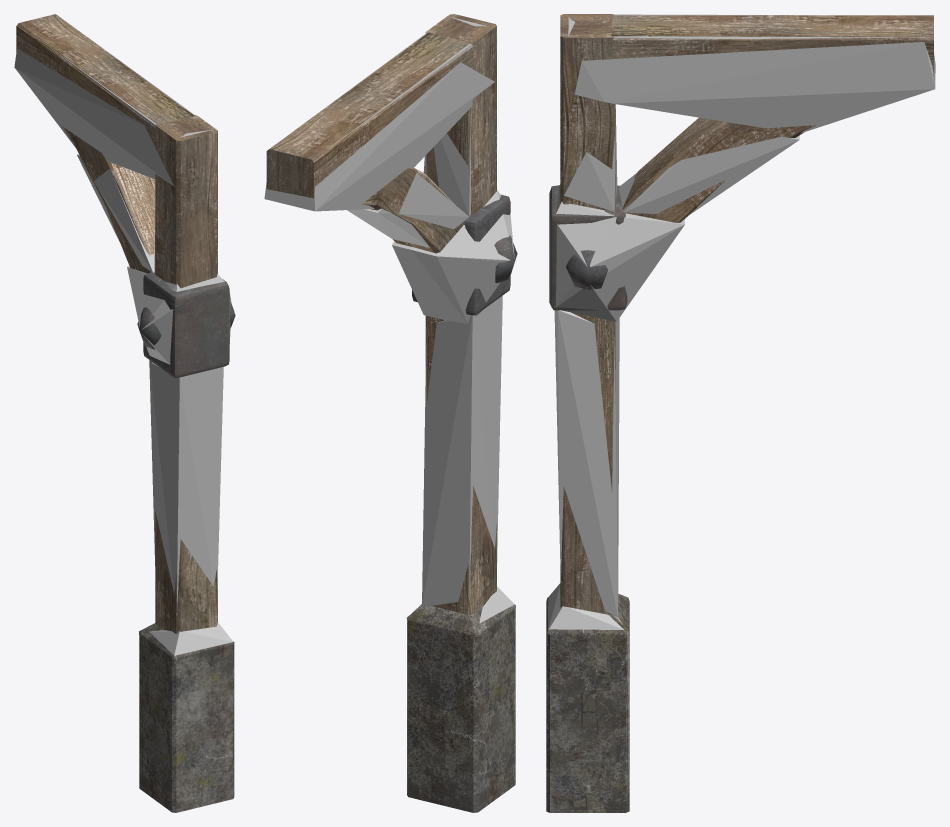
File: SM_Beam_B_02.fbx
3 renders of one model, left to right at view 1: azimuth 30°, elevation 25°; view 2: azimuth 150°, elevation 25°; view 3: azimuth 270°, elevation 25°, orthographic. The views are drawn at different scales.
Visible parts, largest first — view 1: SM_Beam_B_02, SM_Beam_B_02_ConvexHulls; view 2: SM_Beam_B_02, SM_Beam_B_02_ConvexHulls; view 3: SM_Beam_B_02_ConvexHulls, SM_Beam_B_02.
Boxes of the visible parts, x1,y1,x2,y2 form: SM_Beam_B_02: (16,14,235,812); SM_Beam_B_02_ConvexHulls: (14,29,233,678); SM_Beam_B_02: (266,14,517,812); SM_Beam_B_02_ConvexHulls: (264,17,514,792); SM_Beam_B_02_ConvexHulls: (546,14,935,770); SM_Beam_B_02: (546,14,933,812).
Bounding box in the file's own units: 59.02 × 183 × 400.
